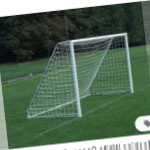goals: (27, 31, 135, 121)
